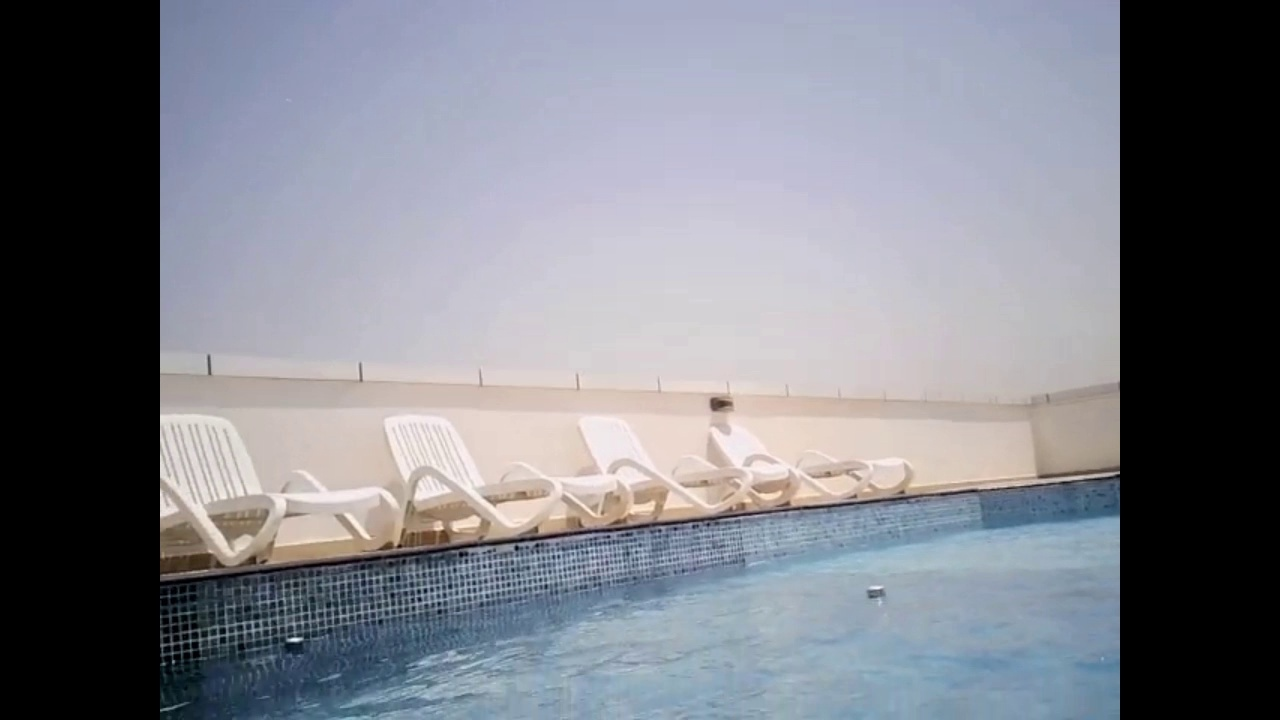debris: (278, 633, 310, 654), (864, 580, 890, 601)
